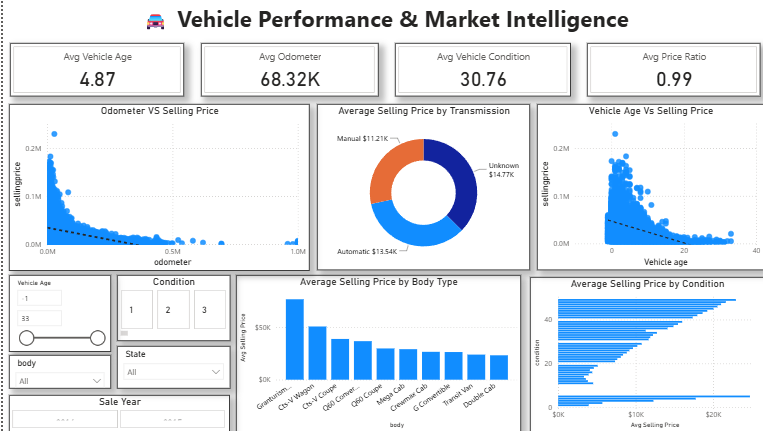

Layout of this report page (visuals, bound fields, positions):
{"tool":"powerbi","page":{"name":" Vehicle Performance & Market Intelligence","canvas":[1280,720],"ordinal":3},"visuals":[{"type":"textbox","box":[0,0,1280,59.2],"z":0},{"type":"cardVisual","fields":{"Data":["cleaned_vehicle_sales.Avg Vehicle Age"]},"box":[11,71.6,290.4,89.5],"z":1000},{"type":"cardVisual","fields":{"Data":["cleaned_vehicle_sales.Avg Odometer"]},"box":[330.3,71.6,295.9,89.5],"z":2000},{"type":"cardVisual","fields":{"Data":["cleaned_vehicle_sales.Avg Price Ratio"]},"box":[974,72,289.3,89],"z":3000},{"type":"cardVisual","fields":{"Data":["cleaned_vehicle_sales.Avg Vehicle Condition"]},"box":[653.2,72,293.2,89],"z":4000},{"type":"clusteredBarChart","title":"Average Selling Price by Condition","fields":{"Category":["cleaned_vehicle_sales.condition"],"Y":["cleaned_vehicle_sales.Avg Selling Price"]},"box":[878.4,462.1,390.1,257.9],"z":5000},{"type":"clusteredColumnChart","title":"Average Selling Price by Body Type","fields":{"Category":["cleaned_vehicle_sales.body"],"Y":["cleaned_vehicle_sales.Avg Selling Price"]},"box":[388.1,458.3,474.8,261.5],"z":6000},{"type":"donutChart","title":"Average Selling Price by Transmission","fields":{"Category":["cleaned_vehicle_sales.transmission"],"Y":["cleaned_vehicle_sales.Avg Selling Price"]},"box":[523,173.4,355.1,276.6],"z":7000},{"type":"scatterChart","title":"Odometer VS Selling Price","fields":{"X":["cleaned_vehicle_sales.odometer"],"Y":["cleaned_vehicle_sales.sellingprice"]},"box":[10.5,172.8,501.4,277.5],"z":8000},{"type":"scatterChart","title":"Vehicle Age Vs Selling Price","fields":{"X":["cleaned_vehicle_sales.vehicle_age"],"Y":["cleaned_vehicle_sales.sellingprice"]},"box":[890.5,173.4,378.5,276.6],"z":9000},{"type":"advancedSlicerVisual","title":"Condition","fields":{"Values":["cleaned_vehicle_sales.condition"]},"box":[189.8,458.2,188.5,110],"z":10000},{"type":"slicer","fields":{"Values":["cleaned_vehicle_sales.vehicle_age"]},"box":[10.5,458.2,170.2,128.3],"z":11000},{"type":"slicer","fields":{"Values":["cleaned_vehicle_sales.body"]},"box":[10.5,591.7,170.2,56.3],"z":12000},{"type":"advancedSlicerVisual","title":"Sale Year","fields":{"Values":["cleaned_vehicle_sales.sale_year"]},"box":[10.5,658.5,367.9,61.5],"z":13000},{"type":"slicer","fields":{"Values":["cleaned_vehicle_sales.state"]},"box":[189.8,577.3,188.5,70.7],"z":14000}]}

Visuals, with their boxes in screenshot pixels (x1, y1, x2, y2), scaled from the page's 1280x720 canvas onto the 763x431 screenshot:
textbox: BBox(0, 0, 762, 35)
cardVisual - cleaned_vehicle_sales.Avg Vehicle Age: BBox(7, 43, 180, 96)
cardVisual - cleaned_vehicle_sales.Avg Odometer: BBox(197, 43, 373, 96)
cardVisual - cleaned_vehicle_sales.Avg Price Ratio: BBox(581, 43, 753, 96)
cardVisual - cleaned_vehicle_sales.Avg Vehicle Condition: BBox(389, 43, 564, 96)
"Average Selling Price by Condition" clusteredBarChart: BBox(524, 277, 756, 430)
"Average Selling Price by Body Type" clusteredColumnChart: BBox(231, 274, 514, 430)
"Average Selling Price by Transmission" donutChart: BBox(312, 104, 523, 269)
"Odometer VS Selling Price" scatterChart: BBox(6, 103, 305, 270)
"Vehicle Age Vs Selling Price" scatterChart: BBox(531, 104, 756, 269)
"Condition" advancedSlicerVisual: BBox(113, 274, 226, 340)
slicer - cleaned_vehicle_sales.vehicle_age: BBox(6, 274, 108, 351)
slicer - cleaned_vehicle_sales.body: BBox(6, 354, 108, 388)
"Sale Year" advancedSlicerVisual: BBox(6, 394, 226, 430)
slicer - cleaned_vehicle_sales.state: BBox(113, 346, 226, 388)
